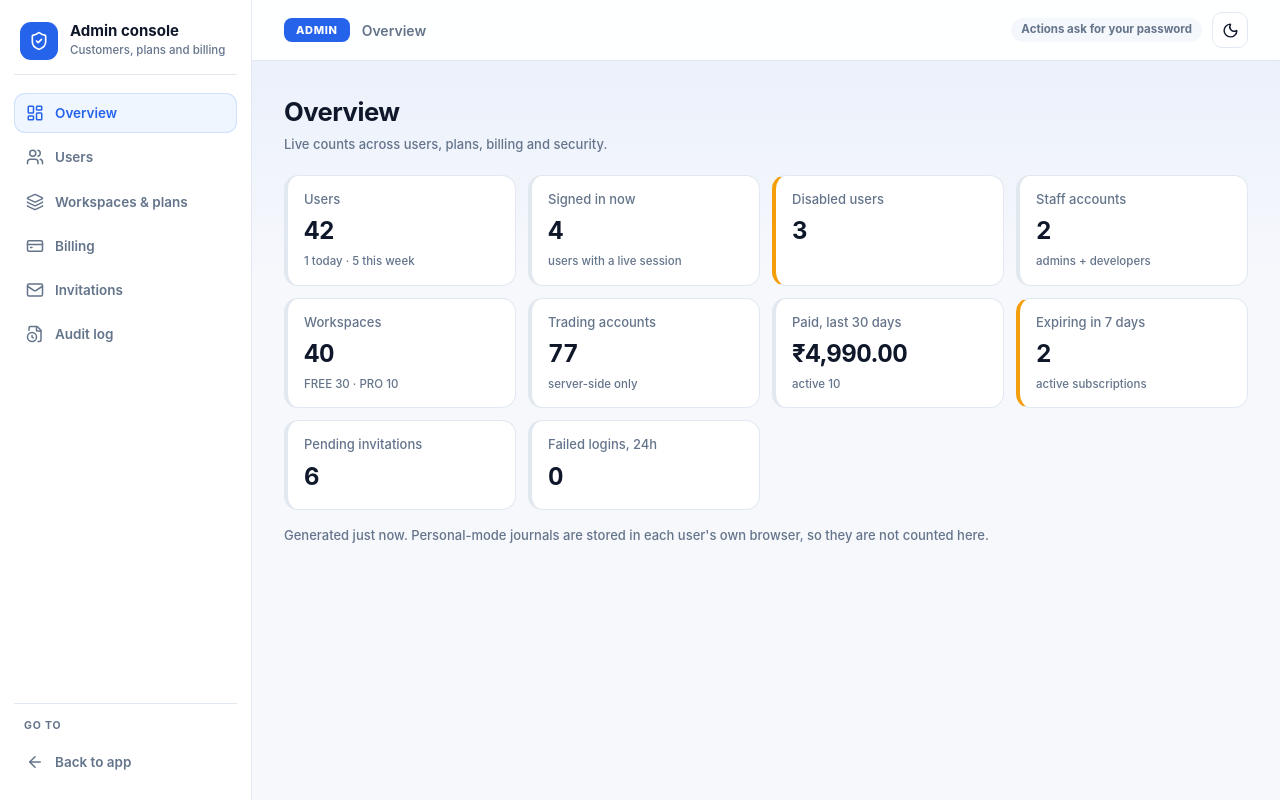
Test case: Users › goes back from a user to the list
Click the tab "Users" at (126, 157), box left=14, top=137, right=237, bottom=178
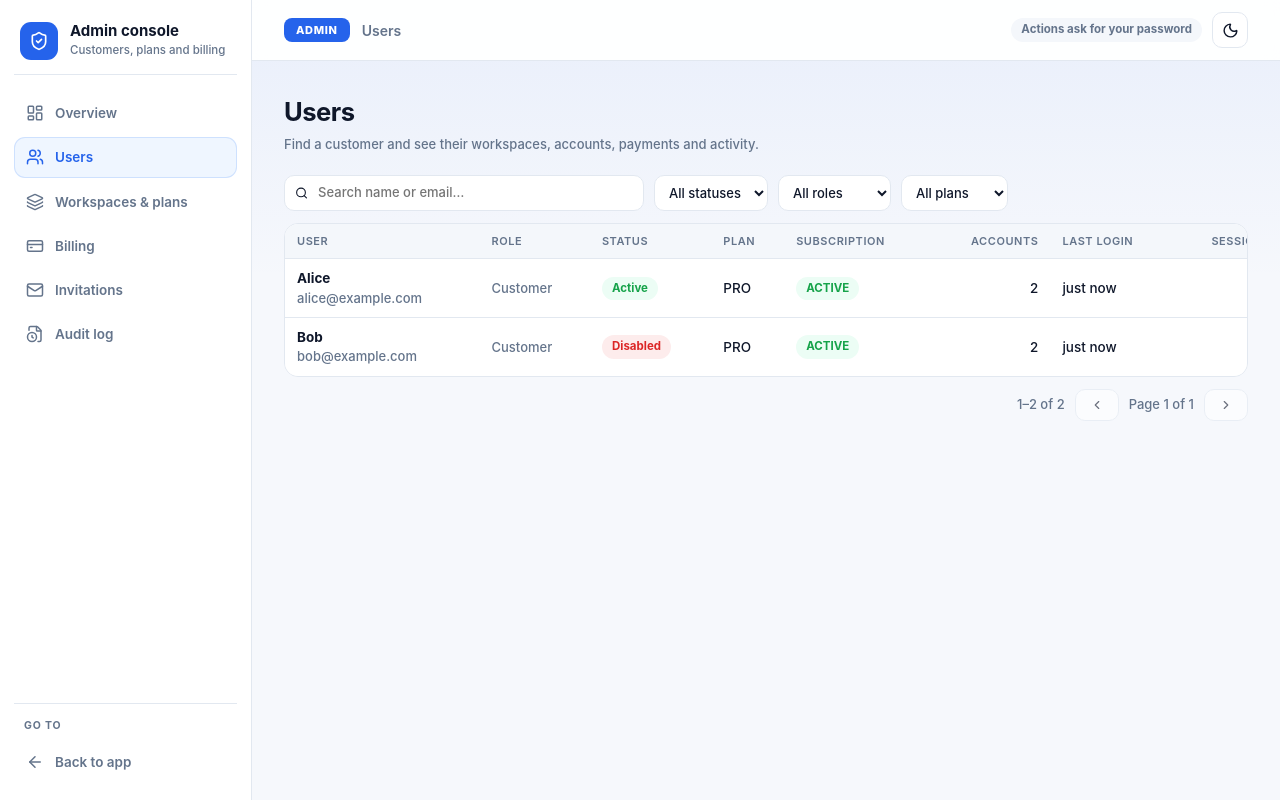
Click the row with class "adm-clickable" that starts with "Alice" at (782, 288), box left=285, top=259, right=1279, bottom=318
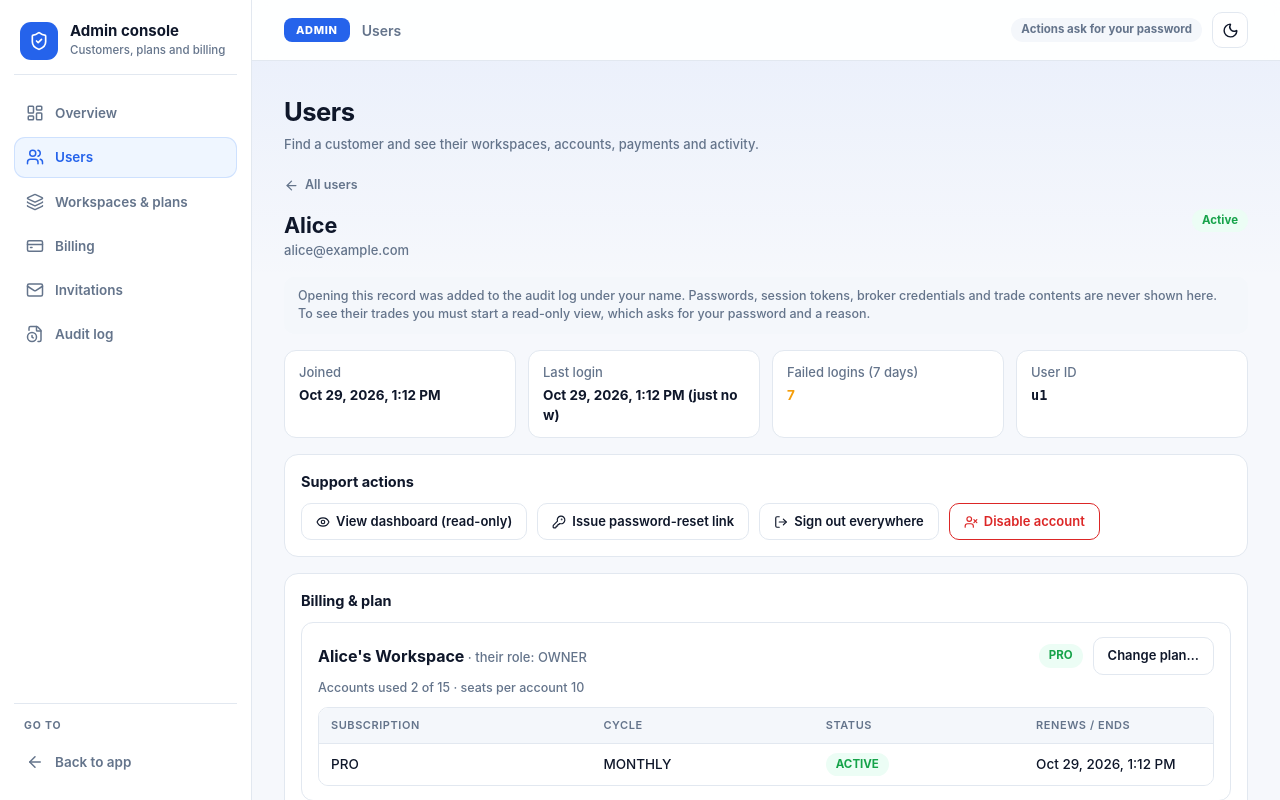
Click the button "All users" at (321, 185), box left=284, top=176, right=358, bottom=195
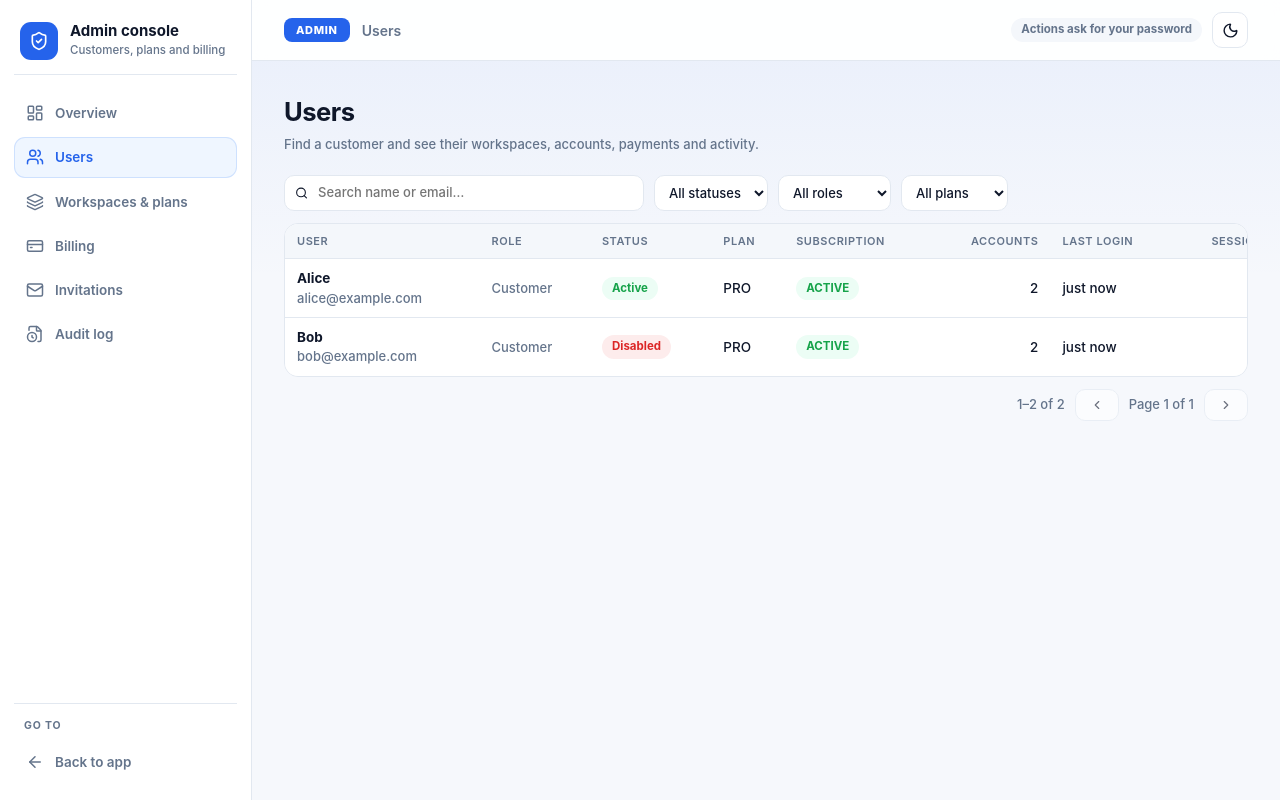
Expected: the text "bob@example.com" is shown, left=297, top=348, right=417, bottom=364
